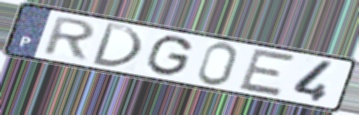0: (196, 41, 240, 88)
4: (289, 58, 337, 104)
D: (88, 21, 144, 70)
E: (236, 47, 298, 98)
G: (144, 35, 196, 79)
R: (38, 15, 98, 63)
